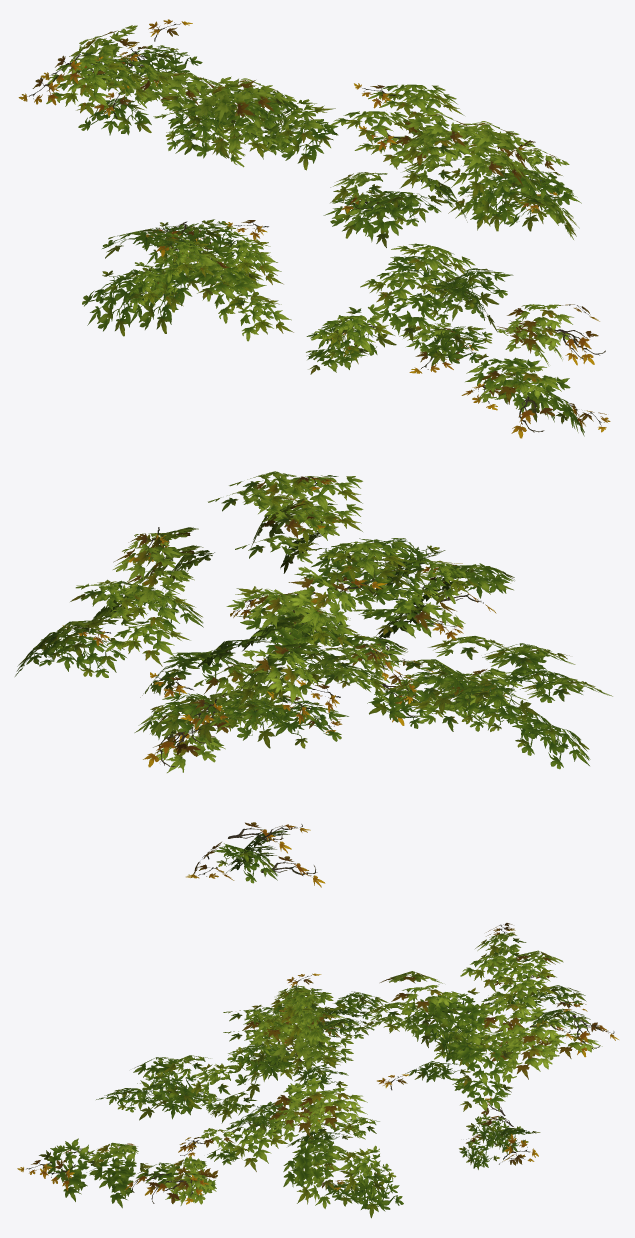
The model's file is yj_shuye_2.FBX.
3 views of the same model, one above another, from view 1: azimuth 30°, elevation 25°; view 2: azimuth 150°, elevation 25°; view 3: azimuth 270°, elevation 25° (orthographic). The views are drawn at different scales.
Parts seen in each view (by area): view 1: yj_shuye_2; view 2: yj_shuye_2; view 3: yj_shuye_2.
Boxes of the visible parts, box(x1,y1,x2,y2) form: yj_shuye_2: box(18, 19, 610, 438); yj_shuye_2: box(15, 471, 612, 887); yj_shuye_2: box(17, 923, 618, 1218).
Size of the model in its own units: 3655 by 1888 by 4738.
